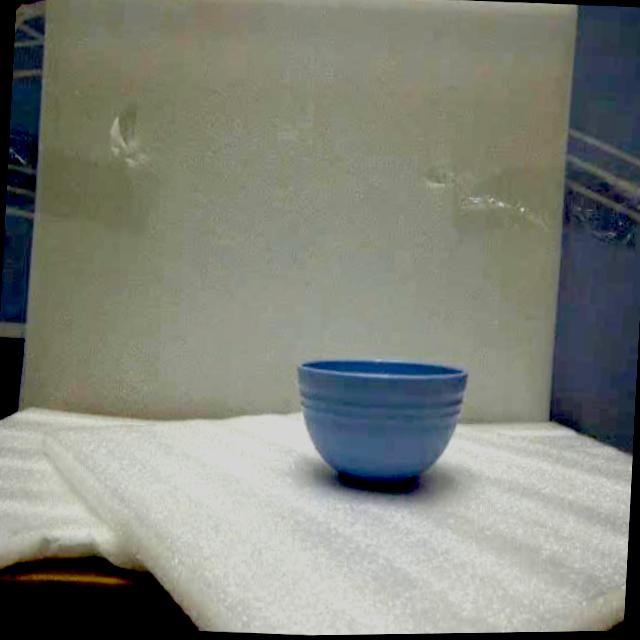Bowl: (298, 359, 466, 487)
